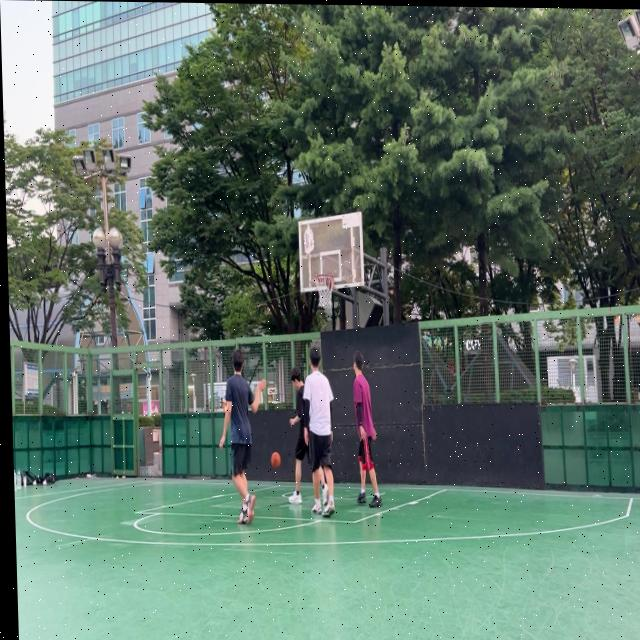basketball: (271, 452, 281, 469)
hoop: (314, 273, 336, 309)
